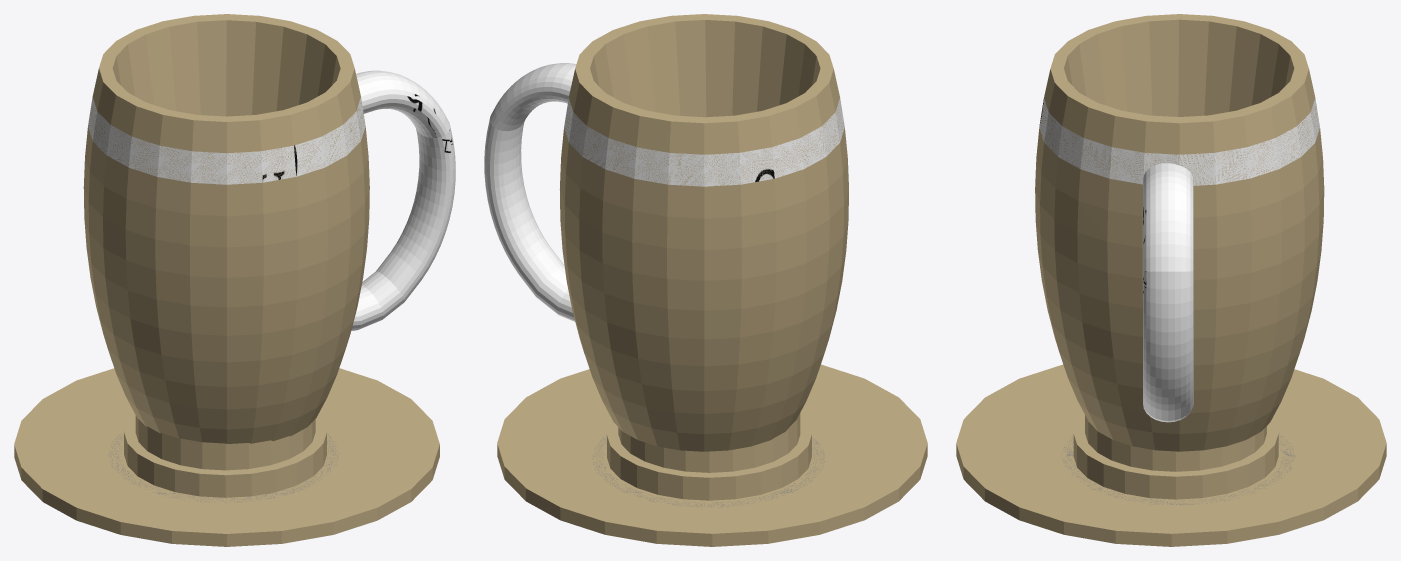
3 renders of one model, left to right at view 1: azimuth 30°, elevation 25°; view 2: azimuth 150°, elevation 25°; view 3: azimuth 270°, elevation 25°, orthographic.
Parts seen in each view (by area): view 1: mesh3_mesh3-geometry, mesh2_mesh2-geometry, mesh5_mesh5-geometry, mesh4_mesh4-geometry, mesh1_mesh1-geometry; view 2: mesh3_mesh3-geometry, mesh2_mesh2-geometry, mesh5_mesh5-geometry, mesh4_mesh4-geometry, mesh1_mesh1-geometry; view 3: mesh3_mesh3-geometry, mesh2_mesh2-geometry, mesh5_mesh5-geometry, mesh4_mesh4-geometry, mesh1_mesh1-geometry.
Part boxes in pixels (bbox=[...]): mesh3_mesh3-geometry: bbox=[83, 14, 369, 443]; mesh2_mesh2-geometry: bbox=[14, 368, 439, 546]; mesh5_mesh5-geometry: bbox=[351, 70, 455, 330]; mesh4_mesh4-geometry: bbox=[124, 414, 326, 497]; mesh1_mesh1-geometry: bbox=[108, 429, 339, 503]; mesh3_mesh3-geometry: bbox=[559, 14, 848, 451]; mesh2_mesh2-geometry: bbox=[497, 364, 927, 546]; mesh5_mesh5-geometry: bbox=[484, 63, 576, 321]; mesh4_mesh4-geometry: bbox=[607, 413, 811, 500]; mesh1_mesh1-geometry: bbox=[591, 434, 825, 507]; mesh3_mesh3-geometry: bbox=[1035, 14, 1324, 451]; mesh2_mesh2-geometry: bbox=[956, 364, 1386, 546]; mesh5_mesh5-geometry: bbox=[1143, 163, 1193, 422]; mesh4_mesh4-geometry: bbox=[1073, 414, 1278, 499]; mesh1_mesh1-geometry: bbox=[1061, 430, 1295, 505].
Size of the model in its own units: 0.6105 by 0.5665 by 0.5536.
